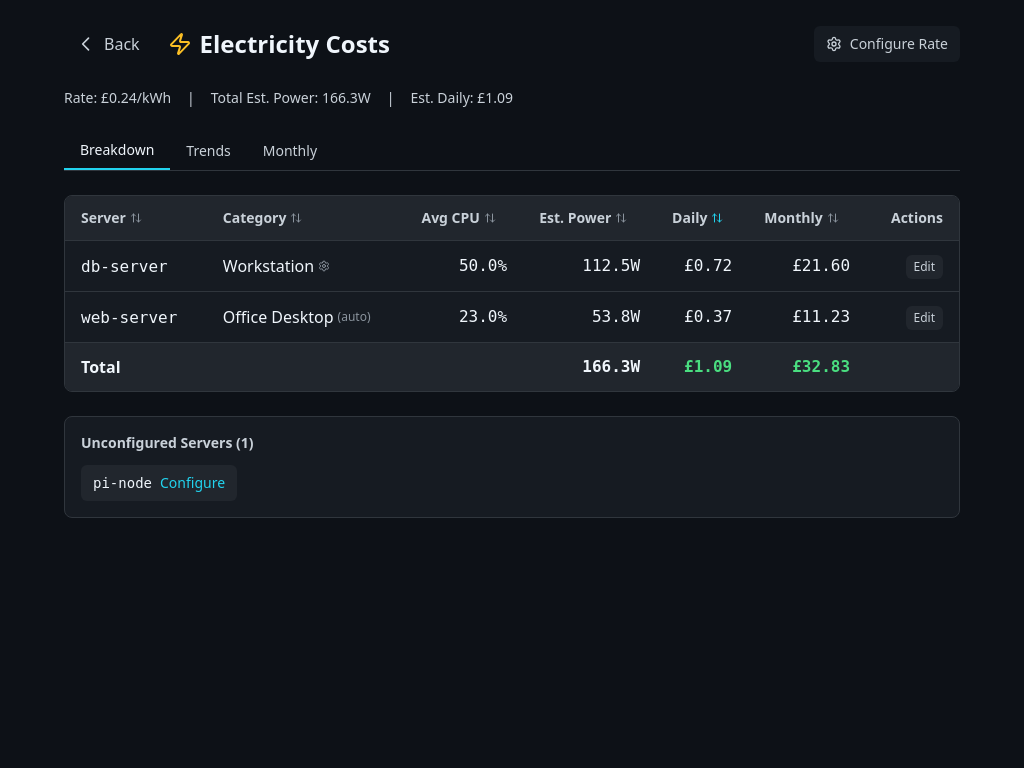
it: CostsPage › Power Edit Modal › opens power modal when Configure clicked
Click the button with test id "configure-server-3" at point(159, 483), box 81,465 -> 237,501
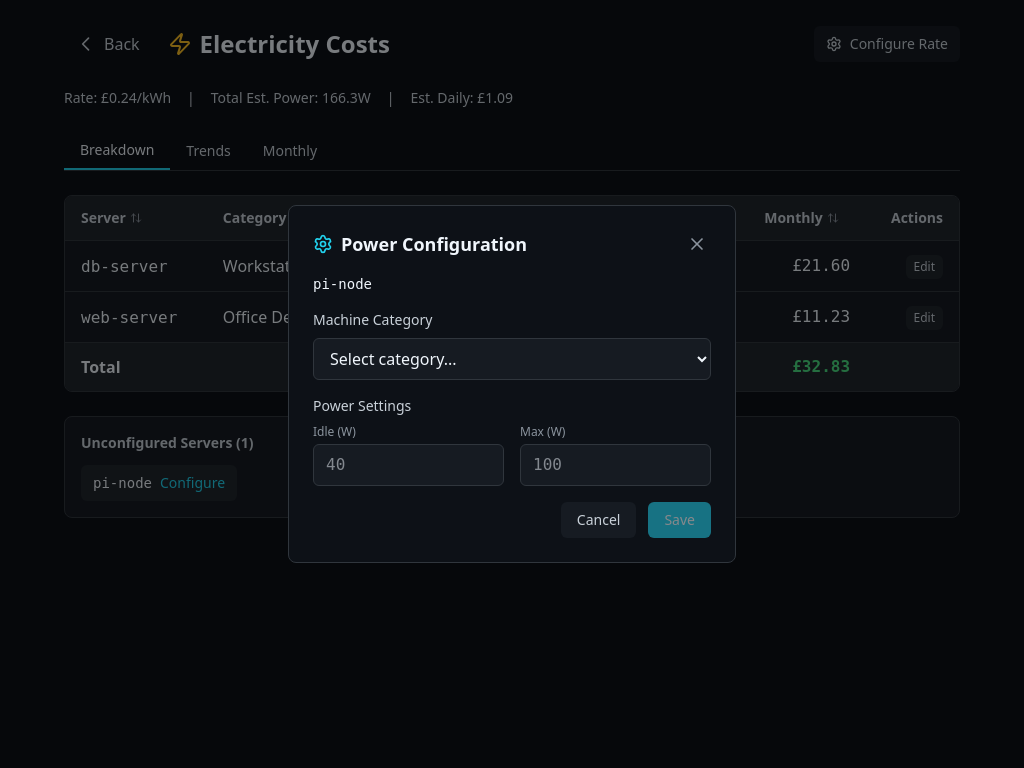
Check: the element with test id "power-modal" is shown, box 288,205 -> 736,563
